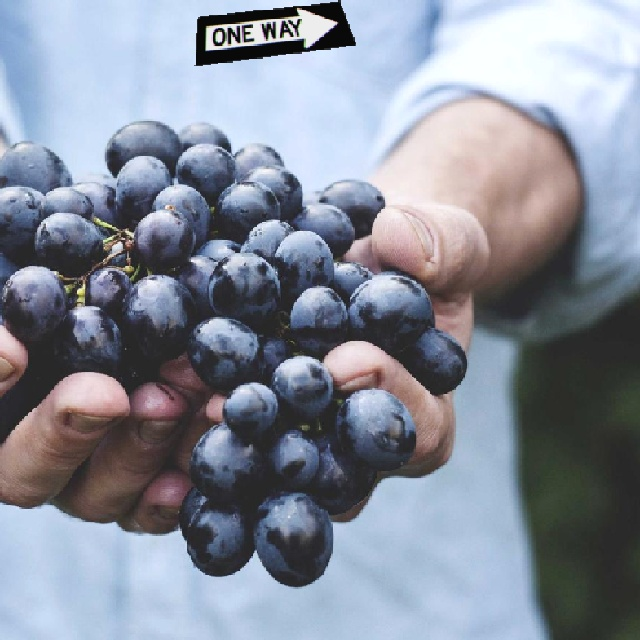ONE_WAY_ right: (193, 0, 355, 65)
